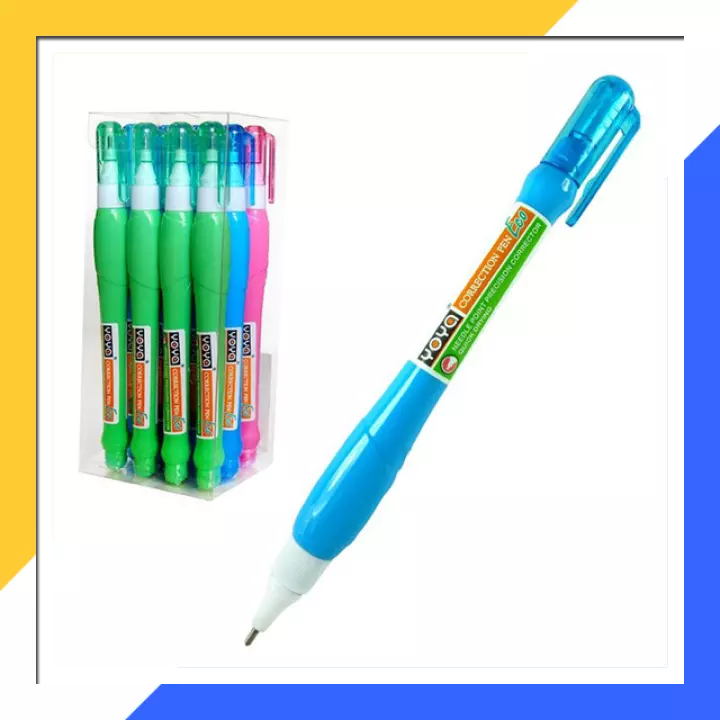Correction_fluid: (232, 69, 648, 655), (119, 116, 163, 480), (89, 122, 134, 471), (193, 121, 233, 495), (163, 121, 195, 488)
